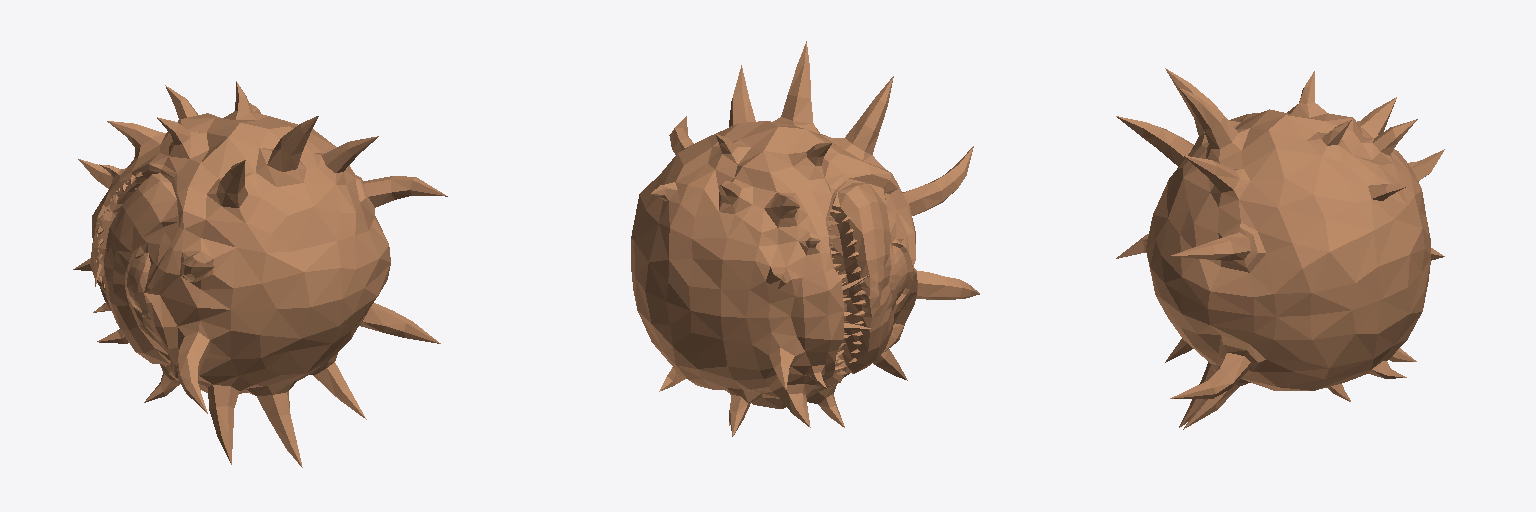
The model's file is cacodemon.obj.
3 views of the same model, side by side, from view 1: azimuth 30°, elevation 25°; view 2: azimuth 150°, elevation 25°; view 3: azimuth 270°, elevation 25° (orthographic).
Parts seen in each view (by area): view 1: Circle_Circle.009; view 2: Circle_Circle.009; view 3: Circle_Circle.009.
Part boxes in pixels (bbox=[...]): Circle_Circle.009: bbox=[73, 81, 447, 467]; Circle_Circle.009: bbox=[631, 41, 979, 436]; Circle_Circle.009: bbox=[1116, 68, 1444, 429].
Bounding box in the file's own units: 1.95 × 2.38 × 2.04.